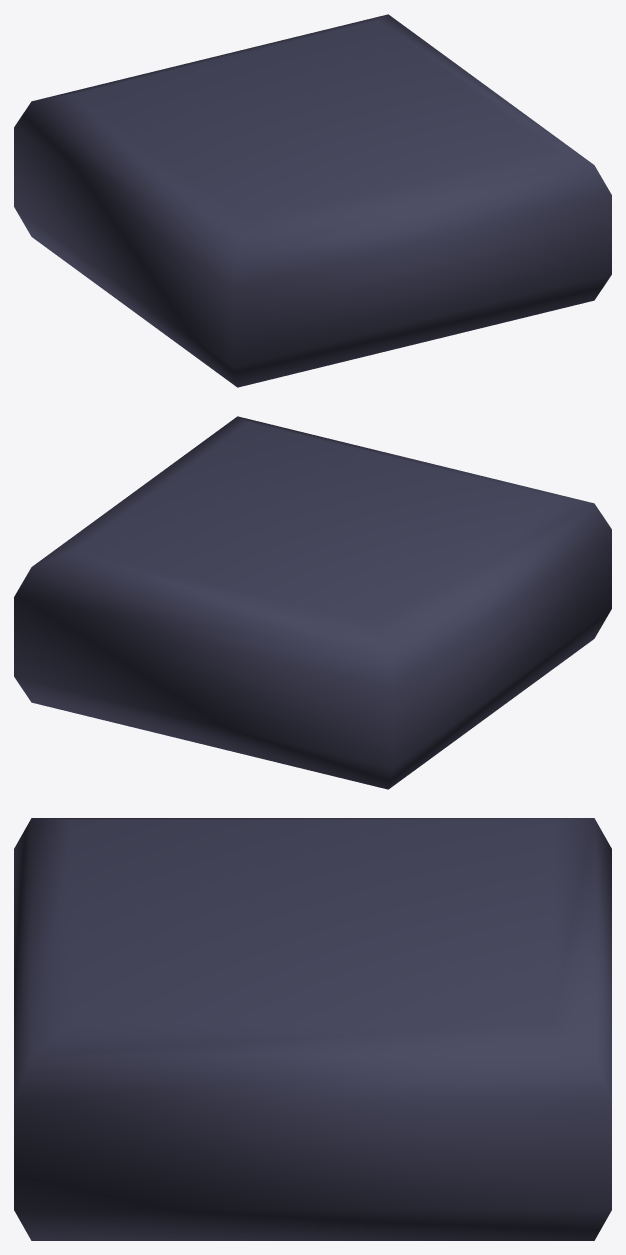
The model's file is conveyor-cross.glb.
3 renders of one model, top to bottom at view 1: azimuth 30°, elevation 25°; view 2: azimuth 150°, elevation 25°; view 3: azimuth 270°, elevation 25°, orthographic. The views are drawn at different scales.
Visible parts, largest first — view 1: conveyor-cross; view 2: conveyor-cross; view 3: conveyor-cross.
Boxes of the visible parts, x1=… form: conveyor-cross: x1=14, y1=14, x2=611, y2=387; conveyor-cross: x1=14, y1=416, x2=611, y2=789; conveyor-cross: x1=14, y1=818, x2=611, y2=1240.
Bounding box in the file's own units: 1 × 0.4 × 1.
1 material, 1 textured.
